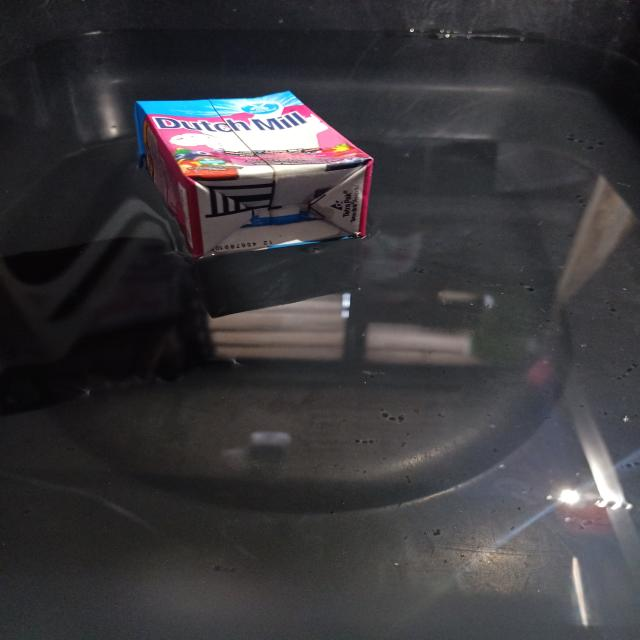Cardboard Box: (134, 91, 374, 258)
